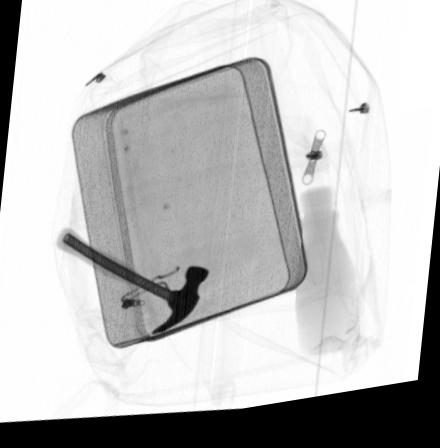Hammer: (55, 227, 210, 341)
